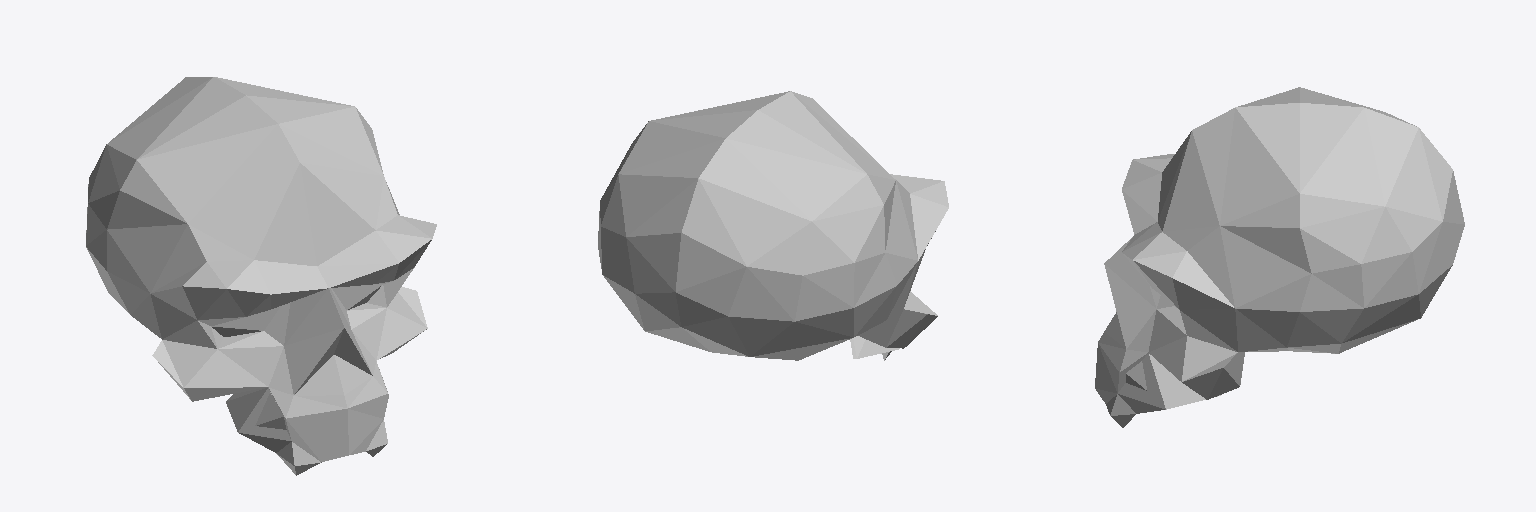
File: skull.obj
3 views of the same model, side by side, from view 1: azimuth 30°, elevation 25°; view 2: azimuth 150°, elevation 25°; view 3: azimuth 270°, elevation 25° (orthographic).
Parts seen in each view (by area): view 1: skull2.obj; view 2: skull2.obj; view 3: skull2.obj.
Part boxes in pixels (x1,y1,x2,y2): skull2.obj: (86,77,436,475); skull2.obj: (598,91,948,360); skull2.obj: (1095,87,1464,427).
Bounding box in the file's own units: 20.93 × 22 × 24.08.